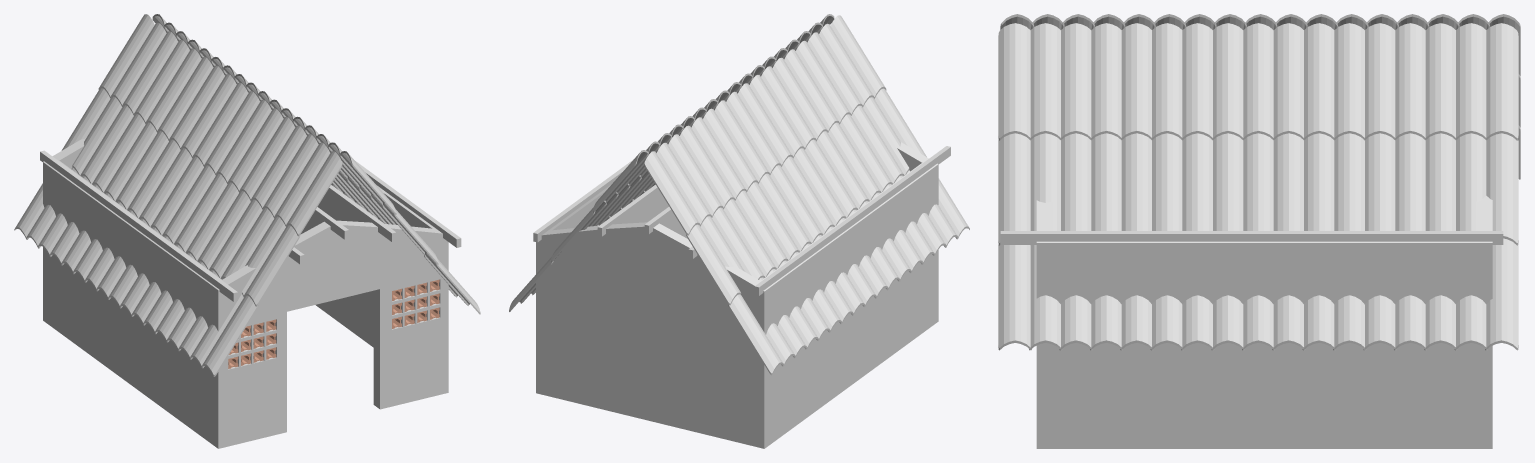
File: Igrejinha.fbx
3 views of the same model, side by side, from view 1: azimuth 30°, elevation 25°; view 2: azimuth 150°, elevation 25°; view 3: azimuth 270°, elevation 25° (orthographic). The views are drawn at different scales.
Visible parts, largest first — view 1: Plane, Cube.002, Plane.001, Cube.003, Cube.011, Cube.010, Cube.007, Cube.009; view 2: Cube.002, Plane, Plane.001, Cube.003, Cube.007, Cube.009; view 3: Plane.001, Cube.002, Cube.007, Plane.
Part boxes in pixels (x1,y1,x2,y2): Plane: (14, 14, 342, 376); Cube.002: (43, 138, 448, 448); Plane.001: (152, 14, 480, 314); Cube.003: (40, 150, 237, 301); Cube.011: (392, 279, 439, 328); Cube.010: (228, 319, 276, 368); Cube.007: (354, 160, 461, 247); Cube.009: (325, 185, 396, 241); Cube.002: (536, 142, 938, 448); Plane: (644, 15, 969, 375); Plane.001: (509, 14, 834, 311); Cube.003: (754, 146, 950, 295); Cube.007: (533, 159, 633, 242); Cube.009: (597, 184, 660, 236); Plane.001: (998, 23, 1518, 350); Cube.002: (1036, 195, 1492, 448); Cube.007: (1000, 231, 1503, 244); Plane: (1000, 14, 1520, 179).
Bounding box in the file's own units: 982 × 966 × 1275.
